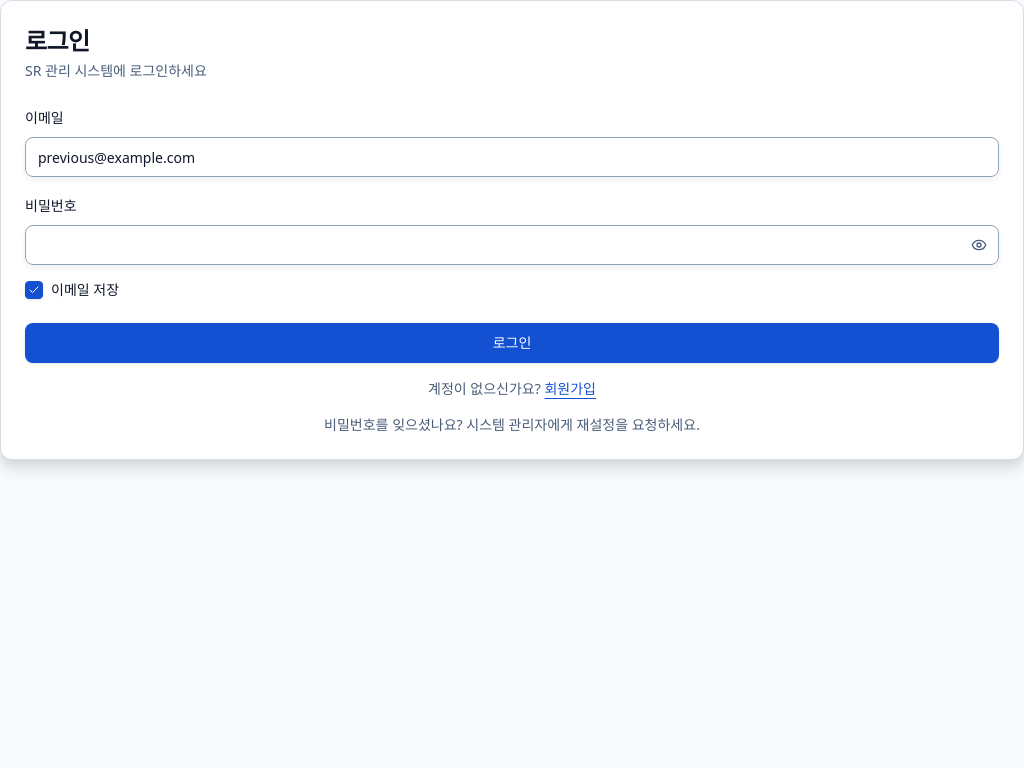
Scenario: LoginForm — 실패 처리 › signIn 이 error 를 돌려주면 문구를 띄우고 이동하지 않는다
Replace the text in the field labelled "이메일" with "hong@example.com": coordinates (512, 157) [25, 137, 999, 177]
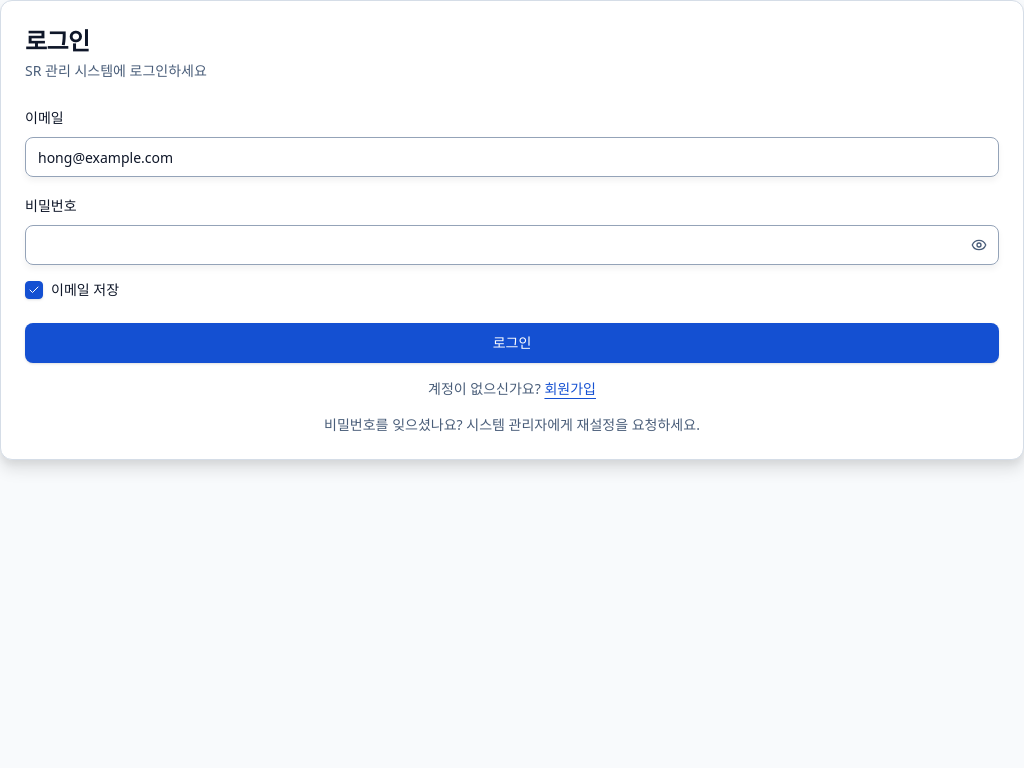
In the password field labelled "비밀번호": coordinates (512, 245) [25, 225, 999, 265], type "wrong"
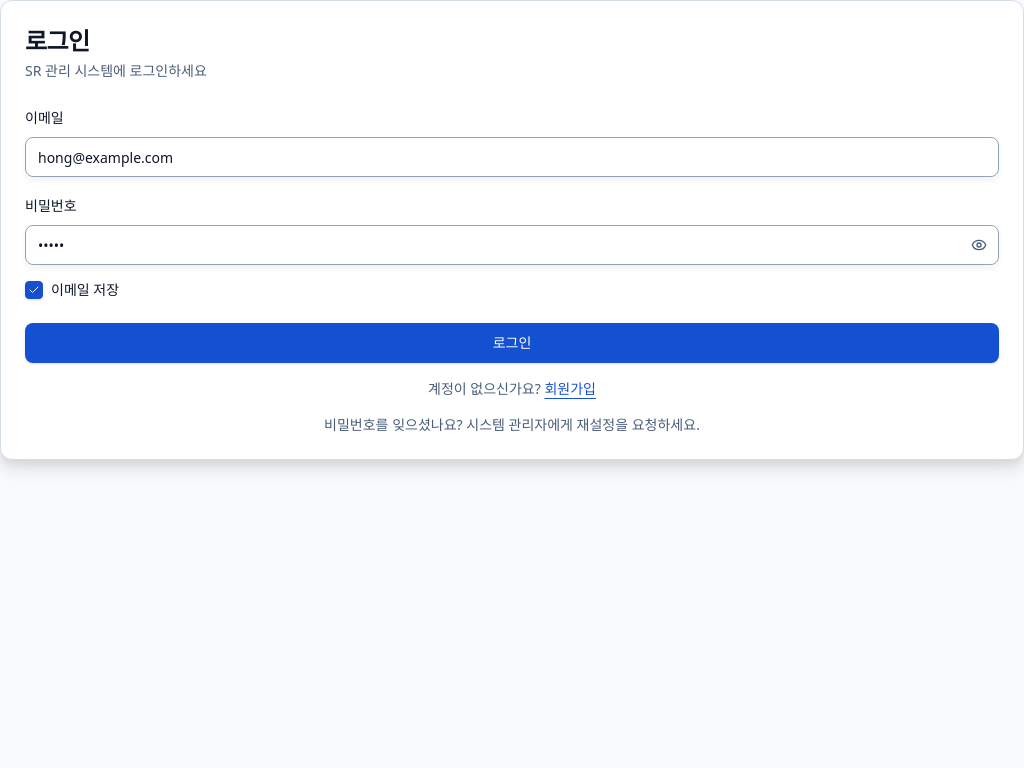
Click the button "로그인": coordinates (512, 343) [25, 323, 999, 363]
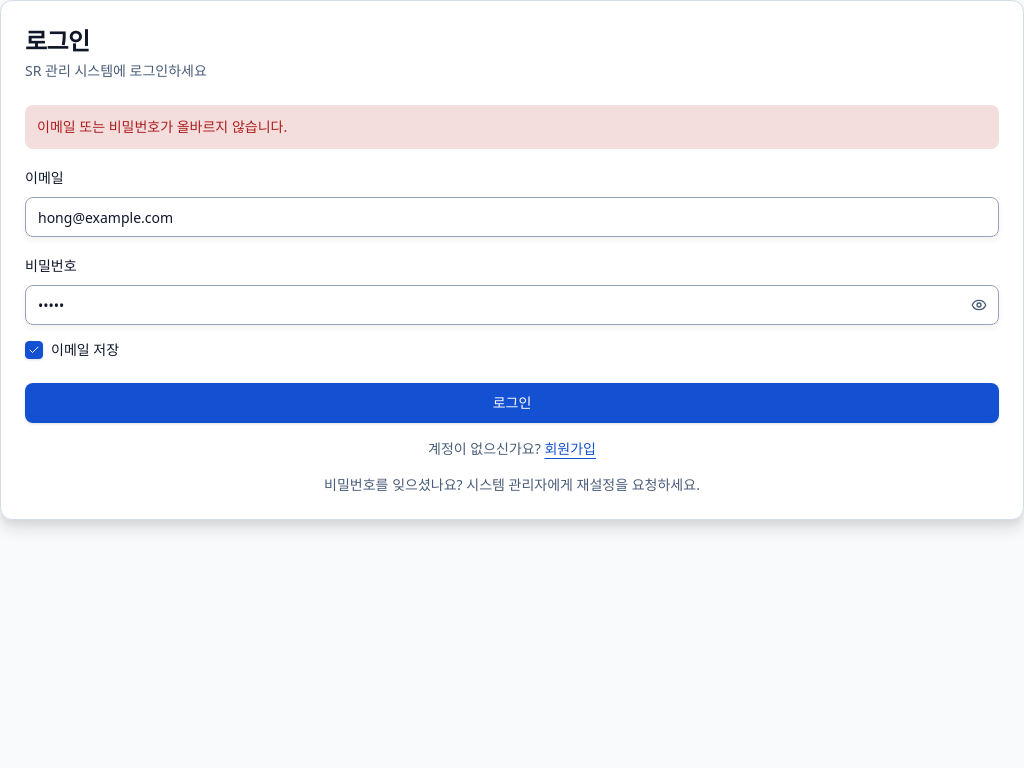
Check: the message does not show "CredentialsSignin", box [25, 105, 999, 149]
Check: the message reads "이메일 또는 비밀번호가 올바르지 않습니다.", box [37, 117, 287, 136]
